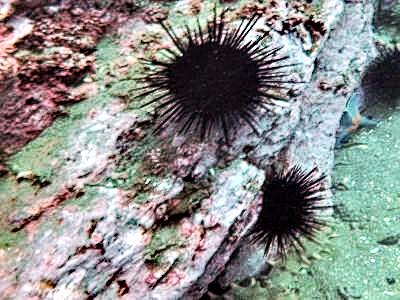urchin: (128, 2, 292, 146), (239, 159, 329, 264), (353, 40, 394, 122)
